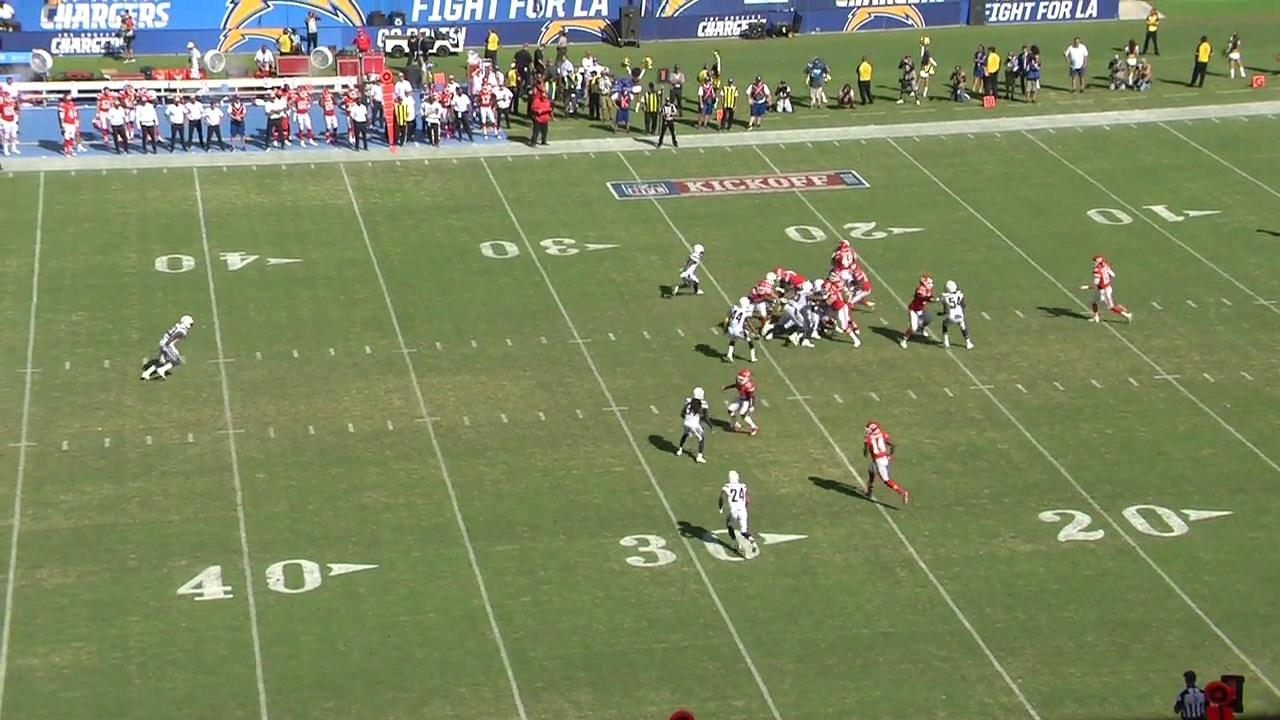defense: (755, 281, 829, 350), (713, 468, 760, 558), (139, 313, 197, 384), (668, 386, 719, 465), (926, 278, 976, 350), (723, 295, 760, 365), (670, 242, 707, 298), (807, 277, 830, 341), (827, 239, 858, 284), (764, 271, 786, 310), (837, 267, 855, 296)
oline: (898, 274, 936, 351), (821, 279, 862, 349), (745, 280, 787, 343), (823, 268, 861, 336), (831, 240, 858, 297), (772, 265, 804, 286)
qb: (1084, 254, 1133, 323)
ref: (653, 98, 680, 147)
skill: (856, 420, 913, 507), (718, 368, 760, 439), (850, 263, 874, 311)
